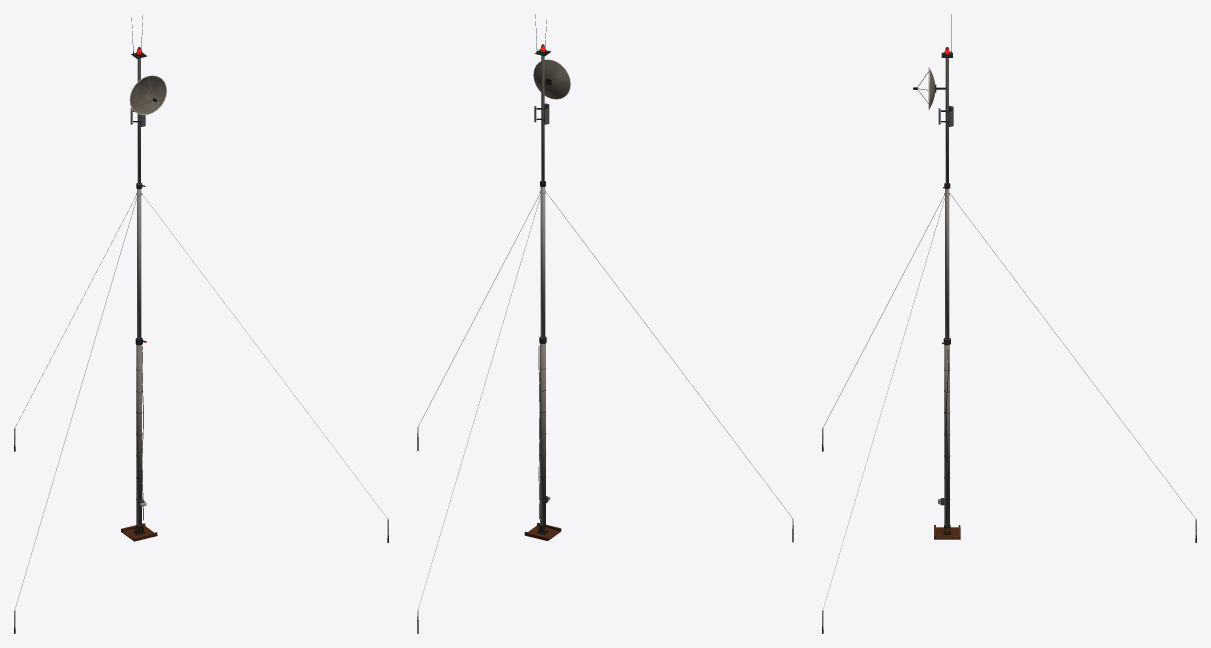
Rendered from pike_jammer_mast.glb.
3 views of the same model, side by side, from view 1: azimuth 30°, elevation 25°; view 2: azimuth 150°, elevation 25°; view 3: azimuth 270°, elevation 25° (orthographic).
Parts seen in each view (by area): view 1: mast_LOD0, dish_LOD0, guy_wires_LOD0, mast_stage_2_LOD0, mast_stage_3_LOD0; view 2: mast_LOD0, guy_wires_LOD0, dish_LOD0, mast_stage_2_LOD0, mast_stage_3_LOD0; view 3: mast_LOD0, guy_wires_LOD0, mast_stage_2_LOD0, mast_stage_3_LOD0.
Boxes of the visible parts, bbox=[...] form: mast_LOD0: bbox=[133, 338, 146, 535]; dish_LOD0: bbox=[129, 75, 166, 115]; guy_wires_LOD0: bbox=[14, 195, 388, 633]; mast_stage_2_LOD0: bbox=[136, 183, 145, 339]; mast_stage_3_LOD0: bbox=[130, 15, 146, 184]; mast_LOD0: bbox=[537, 336, 550, 534]; guy_wires_LOD0: bbox=[417, 193, 793, 633]; dish_LOD0: bbox=[533, 59, 570, 99]; mast_stage_2_LOD0: bbox=[539, 181, 546, 338]; mast_stage_3_LOD0: bbox=[534, 14, 550, 182]; mast_LOD0: bbox=[938, 338, 950, 534]; guy_wires_LOD0: bbox=[822, 195, 1196, 633]; mast_stage_2_LOD0: bbox=[943, 183, 950, 339]; mast_stage_3_LOD0: bbox=[938, 14, 953, 184].
Size of what is drawn, in the model's own units: 11.29 by 15.15 by 9.79.
